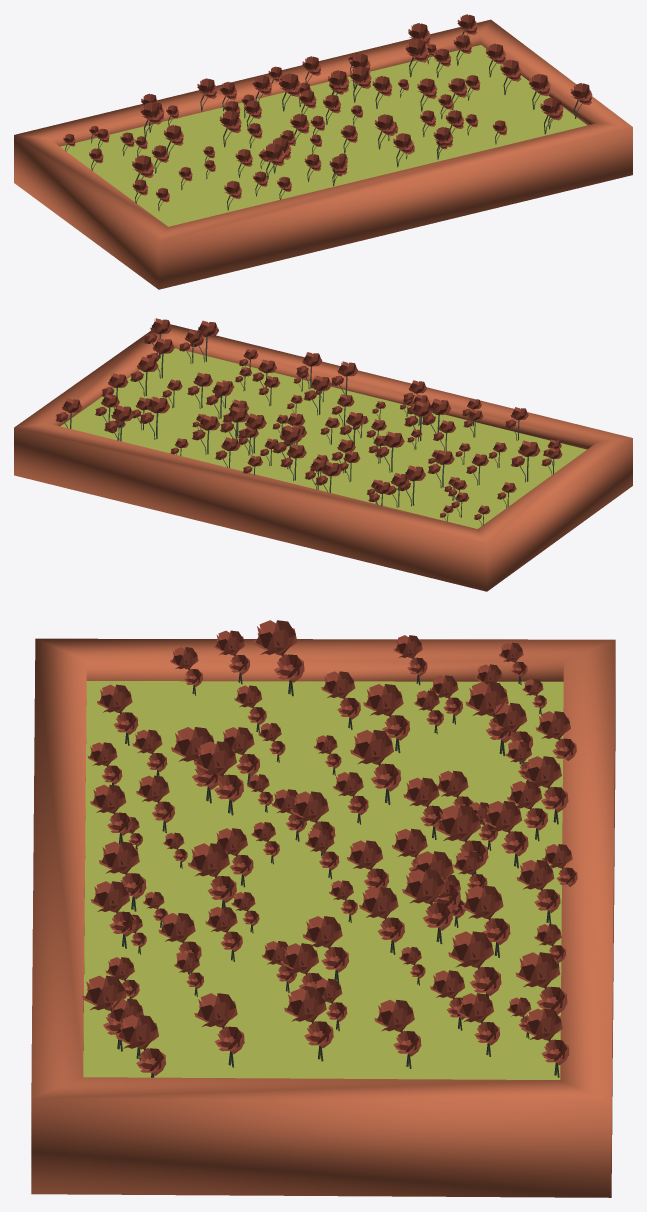
File: Fleur1.fbx
The picture shows the model from 3 angles, top to bottom: view 1: azimuth 30°, elevation 25°; view 2: azimuth 150°, elevation 25°; view 3: azimuth 270°, elevation 25°; orthographic projection. The views are drawn at different scales.
Parts seen in each view (by area): view 1: Cylinder005.005, BézierCurve.053; view 2: Cylinder005.005, BézierCurve.053; view 3: Cylinder005.005, BézierCurve.053.
Part boxes in pixels (<box>): Cylinder005.005: <box>14,19,632,289</box>; BézierCurve.053: <box>63,14,592,210</box>; Cylinder005.005: <box>14,324,632,591</box>; BézierCurve.053: <box>55,318,562,525</box>; Cylinder005.005: <box>31,638,615,1197</box>; BézierCurve.053: <box>82,620,577,1077</box>.
Size of the model in its own units: 1067 by 167 by 569.
